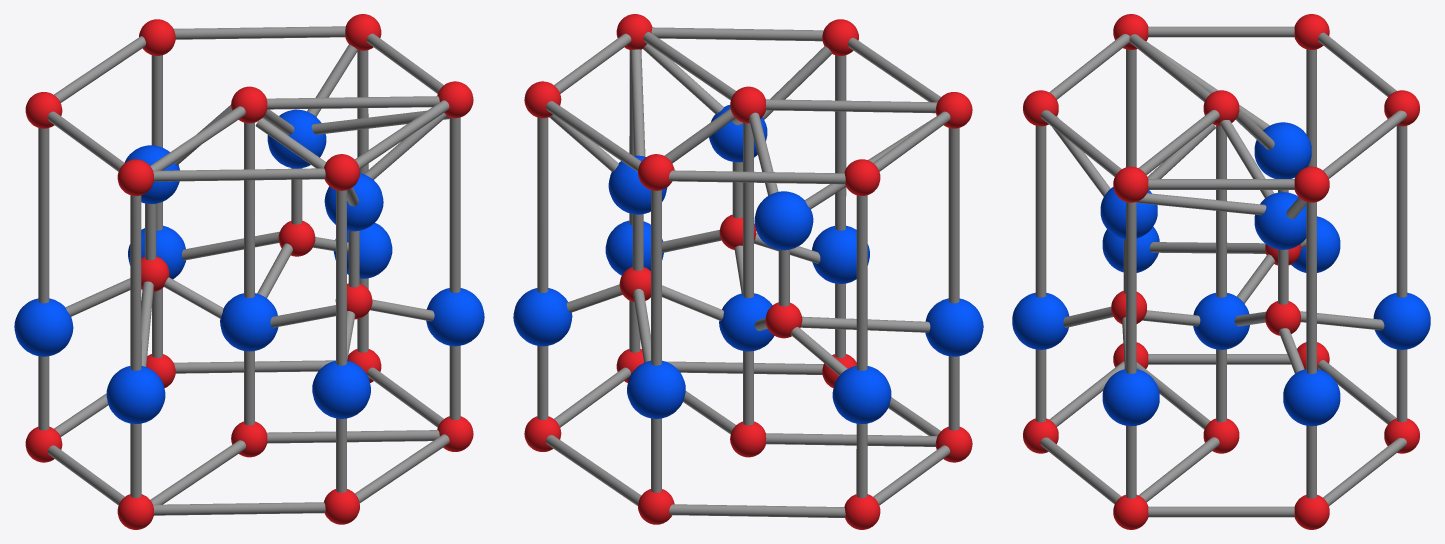
Rendered from ZnO.fbx.
The picture shows the model from 3 angles, left to right: view 1: azimuth 30°, elevation 25°; view 2: azimuth 150°, elevation 25°; view 3: azimuth 270°, elevation 25°; orthographic projection. The views are drawn at different scales.
Parts seen in each view (by area): view 1: Цилиндр_Node (×43), Сферы_Node (×26); view 2: Цилиндр_Node (×43), Сферы_Node (×25); view 3: Цилиндр_Node (×41), Сферы_Node (×24).
Boxes of the visible parts, box(x1,y1,x2,y2) form: Цилиндр_Node (×43): box(38, 26, 460, 515); Сферы_Node (×26): box(14, 14, 484, 529); Цилиндр_Node (×43): box(537, 27, 959, 517); Сферы_Node (×25): box(513, 14, 983, 529); Цилиндр_Node (×41): box(1035, 26, 1407, 517); Сферы_Node (×24): box(1012, 14, 1430, 529).
Size of the model in its own units: 4.57 by 4.33 by 4.56.
Materials: 54 (2 with a texture image).
